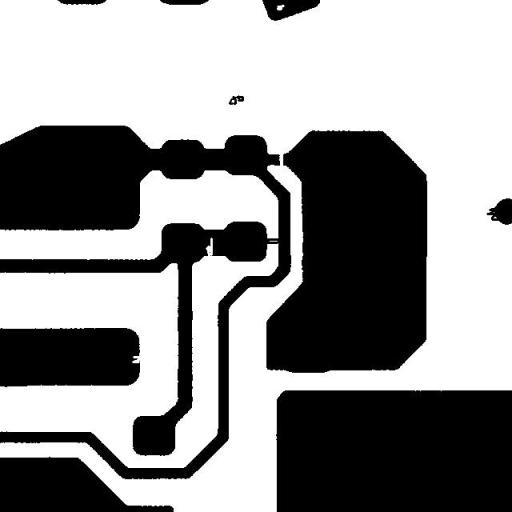copper: (221, 87, 251, 112)
mousebite: (198, 230, 220, 264), (124, 348, 149, 370)
open: (272, 141, 290, 175)
pin-hole: (269, 0, 292, 18)
short: (256, 230, 288, 252)
spur: (478, 198, 509, 228)
